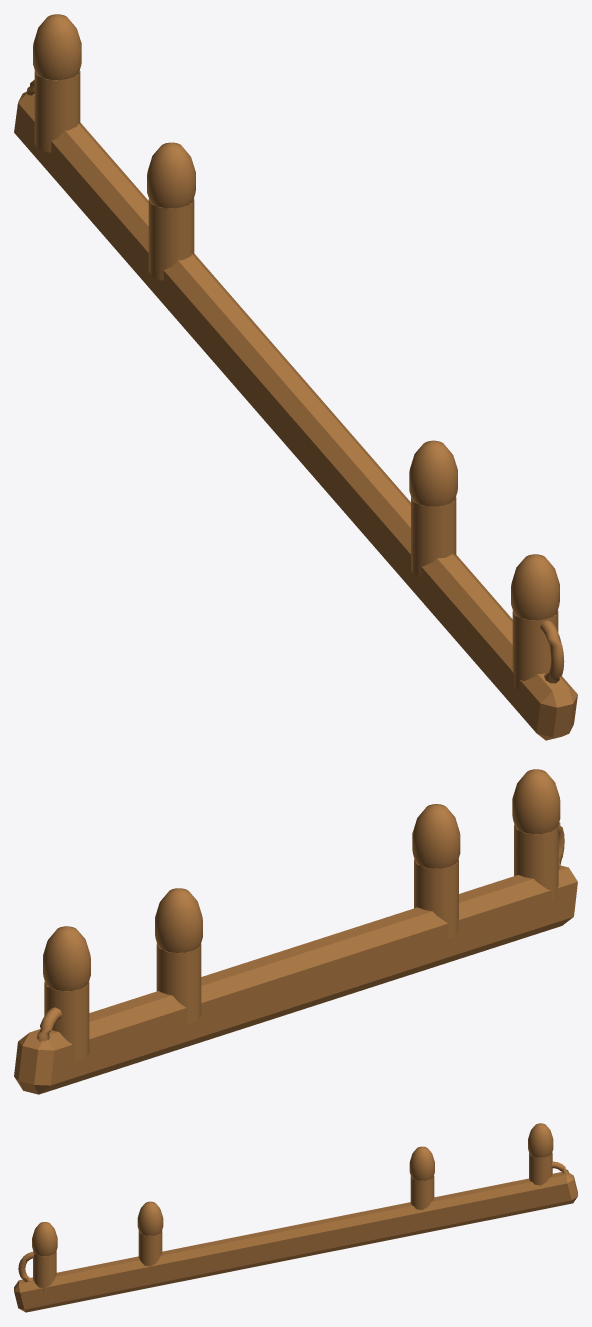
The model's file is SM_Menu_MoonLampBar.fbx.
3 renders of one model, top to bottom at view 1: azimuth 30°, elevation 25°; view 2: azimuth 150°, elevation 25°; view 3: azimuth 270°, elevation 25°, orthographic. The views are drawn at different scales.
Visible parts, largest first — view 1: SM_Menu_MoonLampBar; view 2: SM_Menu_MoonLampBar; view 3: SM_Menu_MoonLampBar.
Part boxes in pixels (x1,y1,x2,y2): SM_Menu_MoonLampBar: (14,14,577,740); SM_Menu_MoonLampBar: (14,769,577,1094); SM_Menu_MoonLampBar: (14,1123,577,1312).
Size of the model in its own units: 8.49 by 176 by 64.45.
